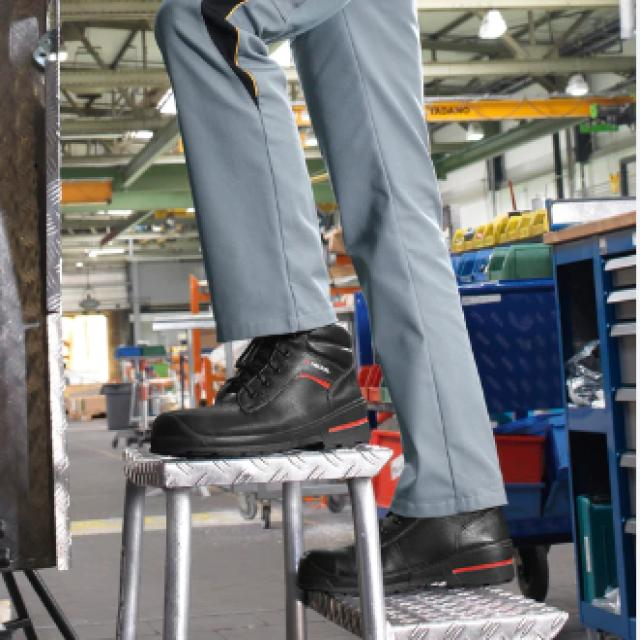boots: (142, 318, 524, 603)
